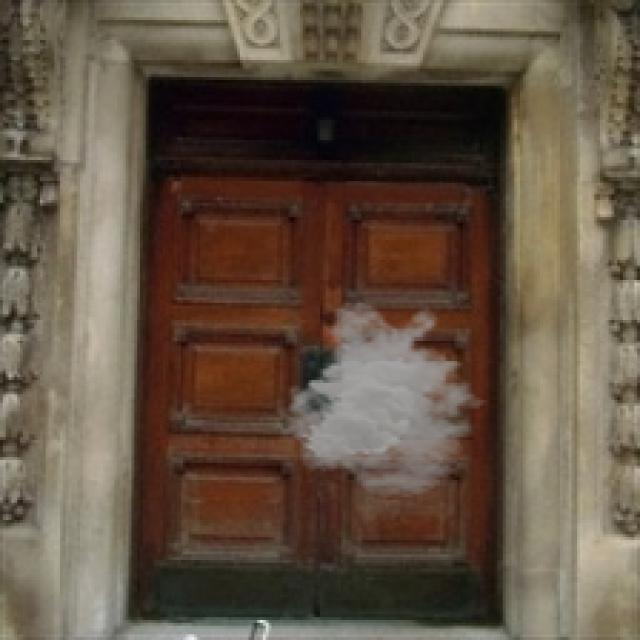smoke: (277, 300, 494, 500)
